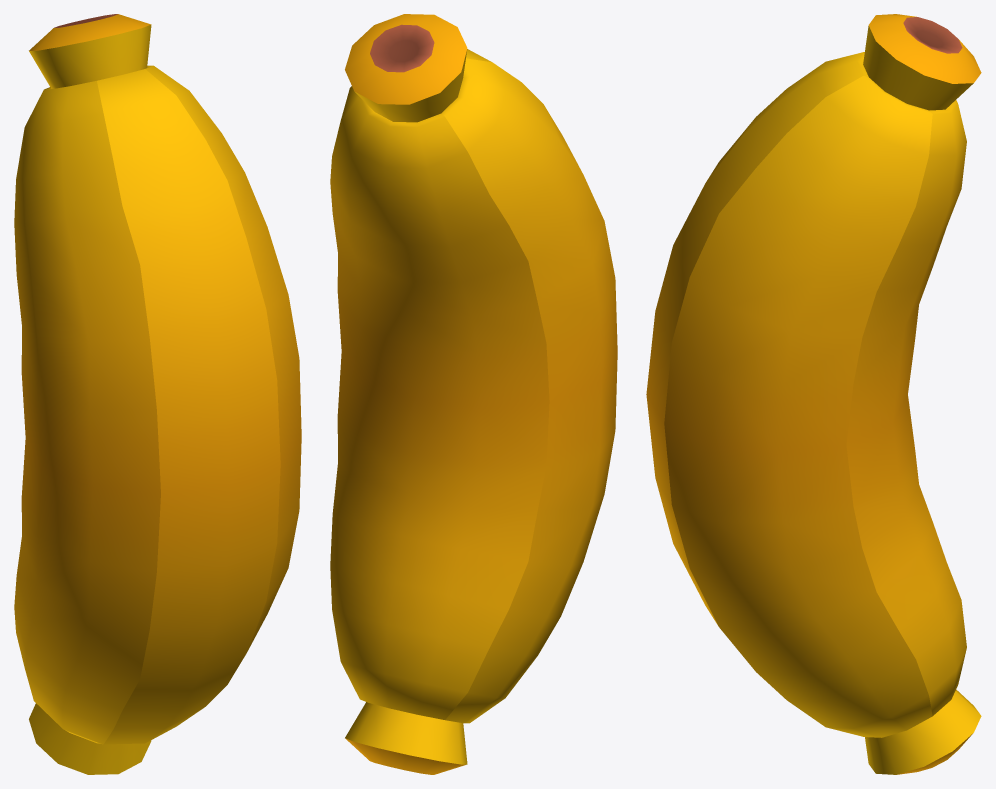
Rendered from Banana_V1_00.fbx.
The picture shows the model from 3 angles, left to right: view 1: azimuth 30°, elevation 25°; view 2: azimuth 150°, elevation 25°; view 3: azimuth 270°, elevation 25°; orthographic projection.
Visible parts, largest first — view 1: Banana_V1_00; view 2: Banana_V1_00; view 3: Banana_V1_00.
Part boxes in pixels (bbox=[...]): Banana_V1_00: bbox=[14, 14, 301, 774]; Banana_V1_00: bbox=[330, 14, 617, 774]; Banana_V1_00: bbox=[646, 14, 981, 774].
Bounding box in the file's own units: 16.14 × 46.67 × 19.08.
